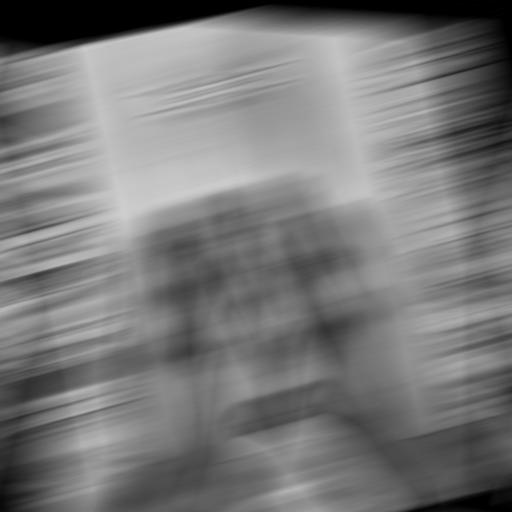bottom_left: (113, 464, 144, 469)
bottom_right: (454, 418, 485, 423)
mobile: (122, 15, 369, 442)
top_left: (22, 55, 51, 58)
